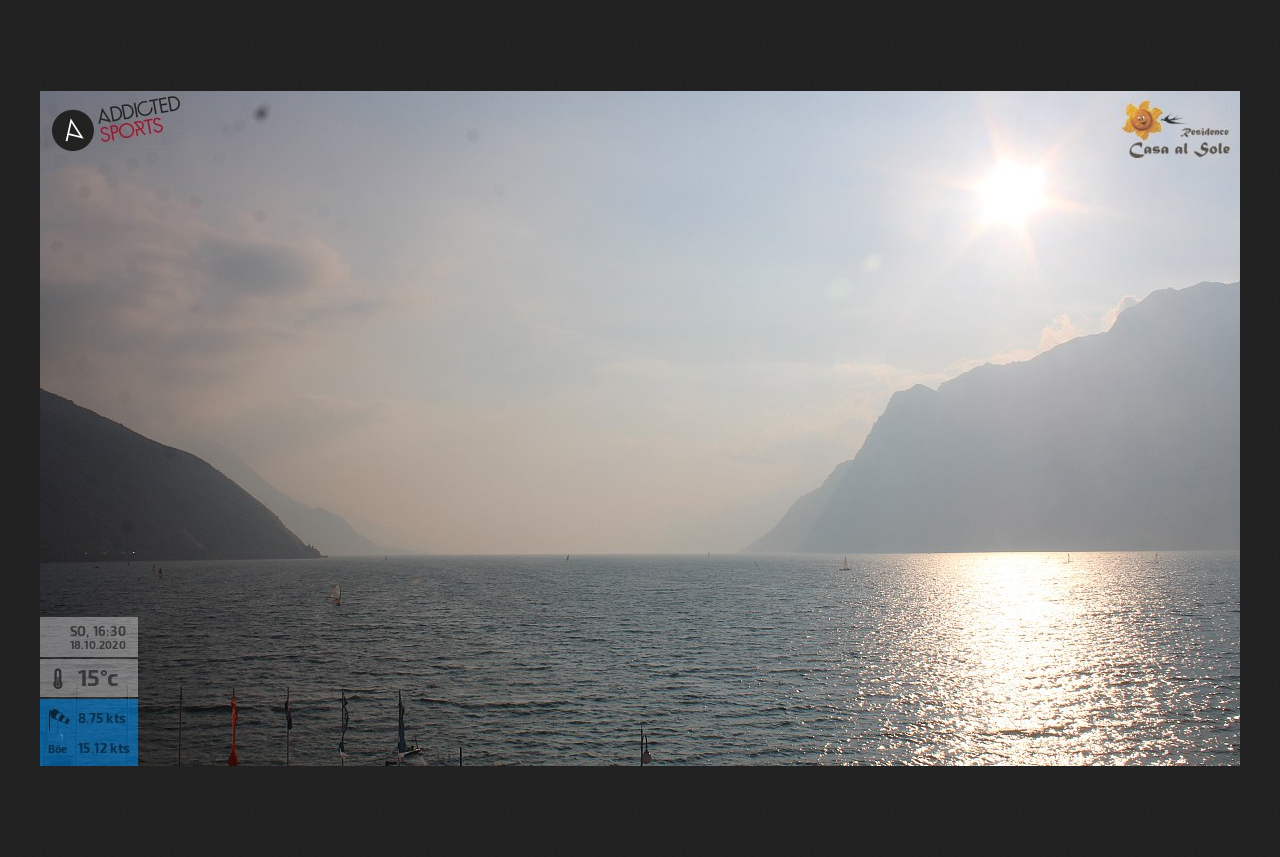no: (218, 694, 247, 770), (388, 687, 412, 755), (333, 682, 350, 740), (279, 693, 298, 732)
